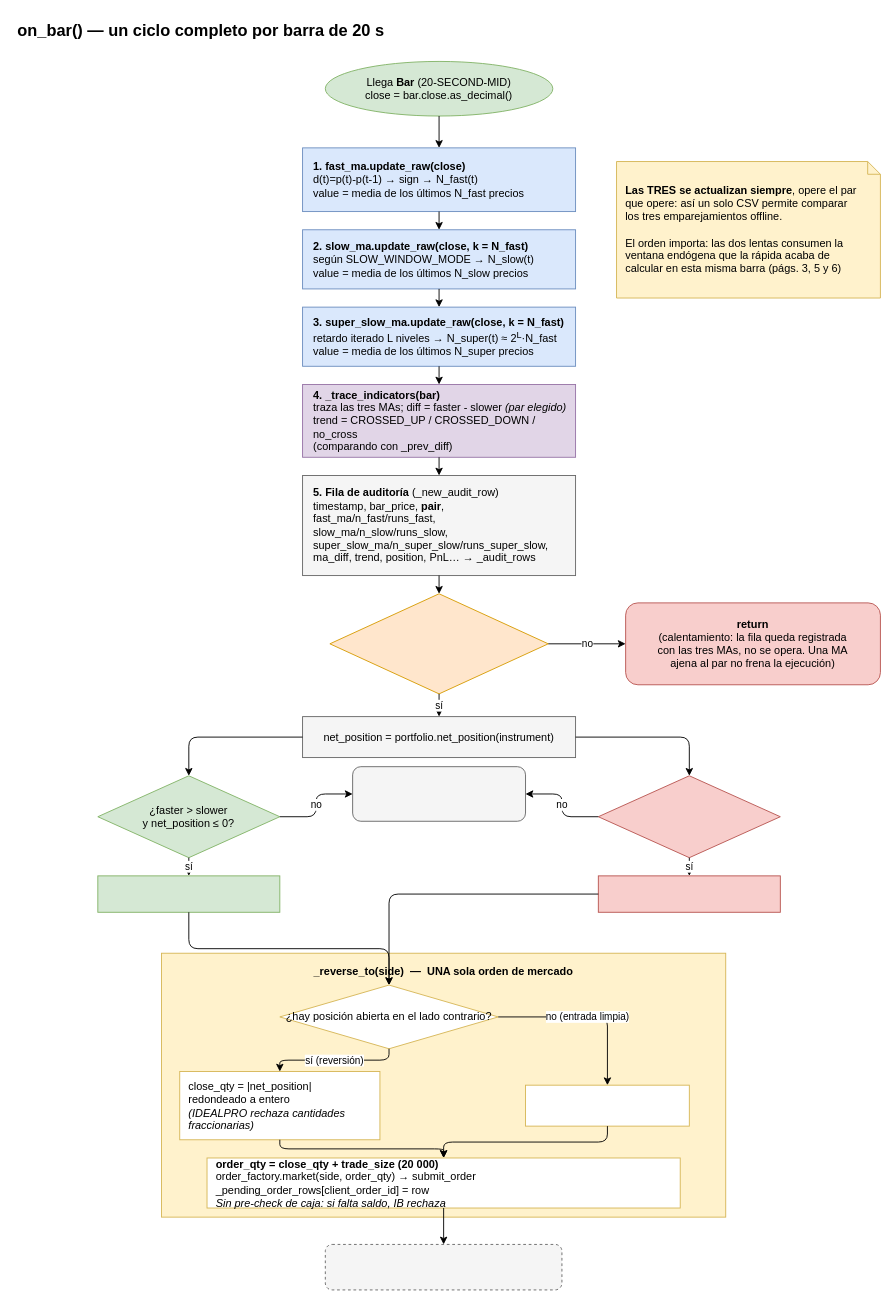
The diagram is 896 pixels wide and 1306 high, and some of its shapes have lost their labels. The shapes that lost their labels are listed below. From the top down, each one's centre as x and y in pixels, then its label:
point 438,643: ¿faster_ma.initialized y slower_ma.initialized? (solo las dos patas del par)
point 439,793: Sin cambio (ya posicionado en el lado correcto)
point 688,816: ¿faster < slower y net_position ≥ 0?
point 188,893: _reverse_to(BUY, row)
point 688,893: _reverse_to(SELL, row)
point 607,1105: close_qty = 0
point 443,1267: → IB (TWS paper) eventos de orden/posición: página 4
